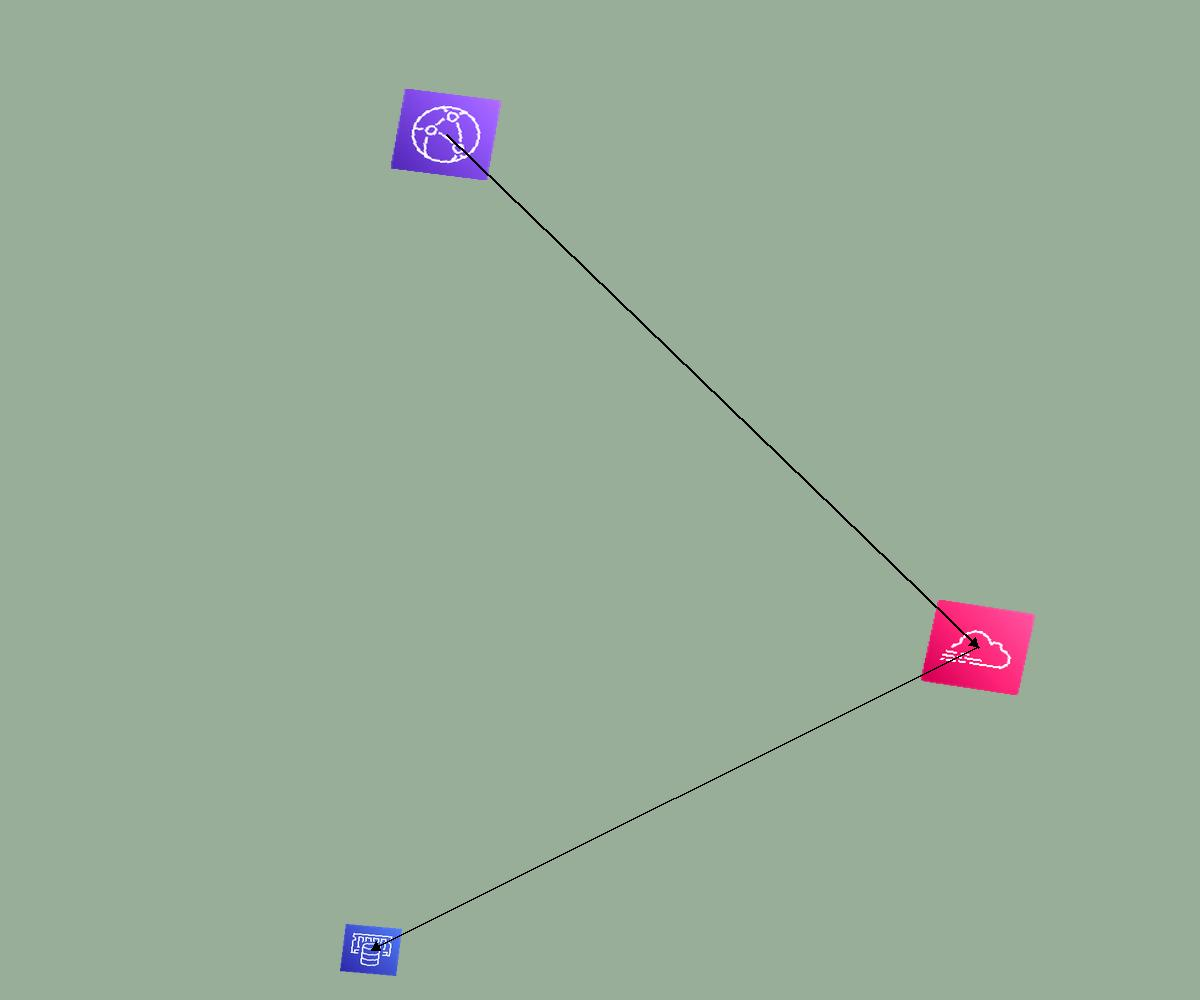AWS-CloudFront: (390, 88, 502, 181)
AWS-CloudTrail: (920, 599, 1036, 696)
AWS-ElastiCache: (340, 924, 402, 976)
